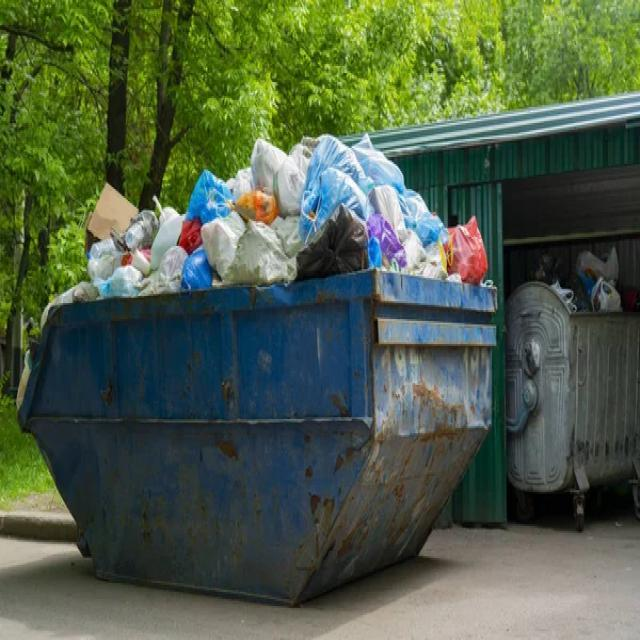garbage: (68, 111, 494, 353)
